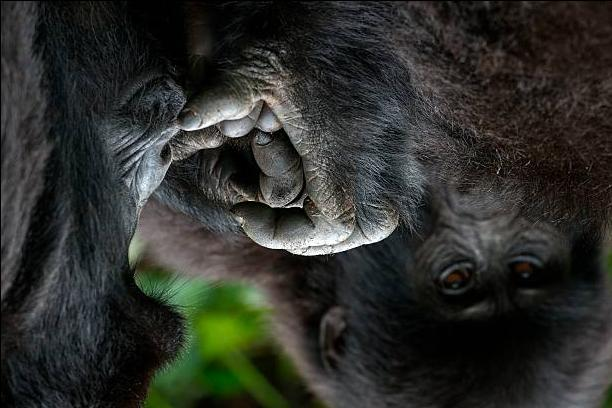goriile_montagne: (320, 176, 606, 408)
